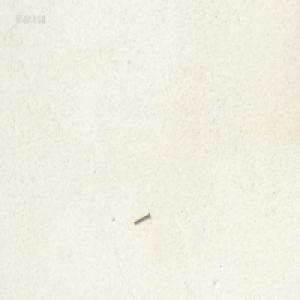Bolt: (132, 212, 150, 225)
